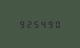five: (32, 20, 38, 28)
four: (39, 20, 45, 28)
nine: (17, 20, 23, 28), (46, 20, 52, 28)
two: (24, 20, 30, 28)
zero: (53, 20, 59, 28)
